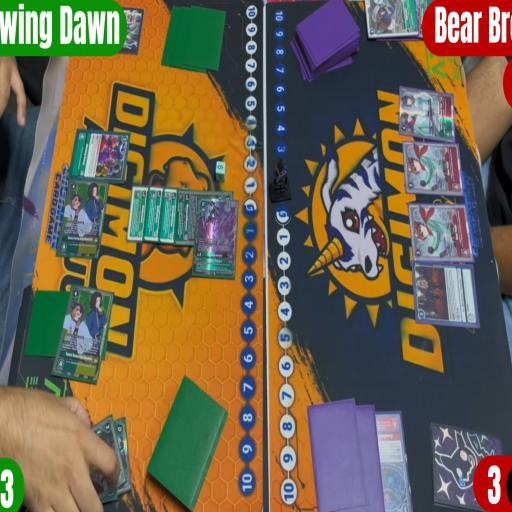card: (52, 289, 114, 383), (54, 182, 109, 259), (372, 409, 412, 512), (411, 265, 478, 326), (193, 199, 240, 281), (82, 409, 125, 498), (407, 202, 475, 258), (174, 191, 232, 247), (70, 129, 131, 182), (405, 142, 460, 195), (398, 90, 456, 140), (366, 0, 416, 38), (142, 187, 167, 243), (116, 408, 132, 494), (158, 187, 182, 244), (126, 186, 150, 242)
